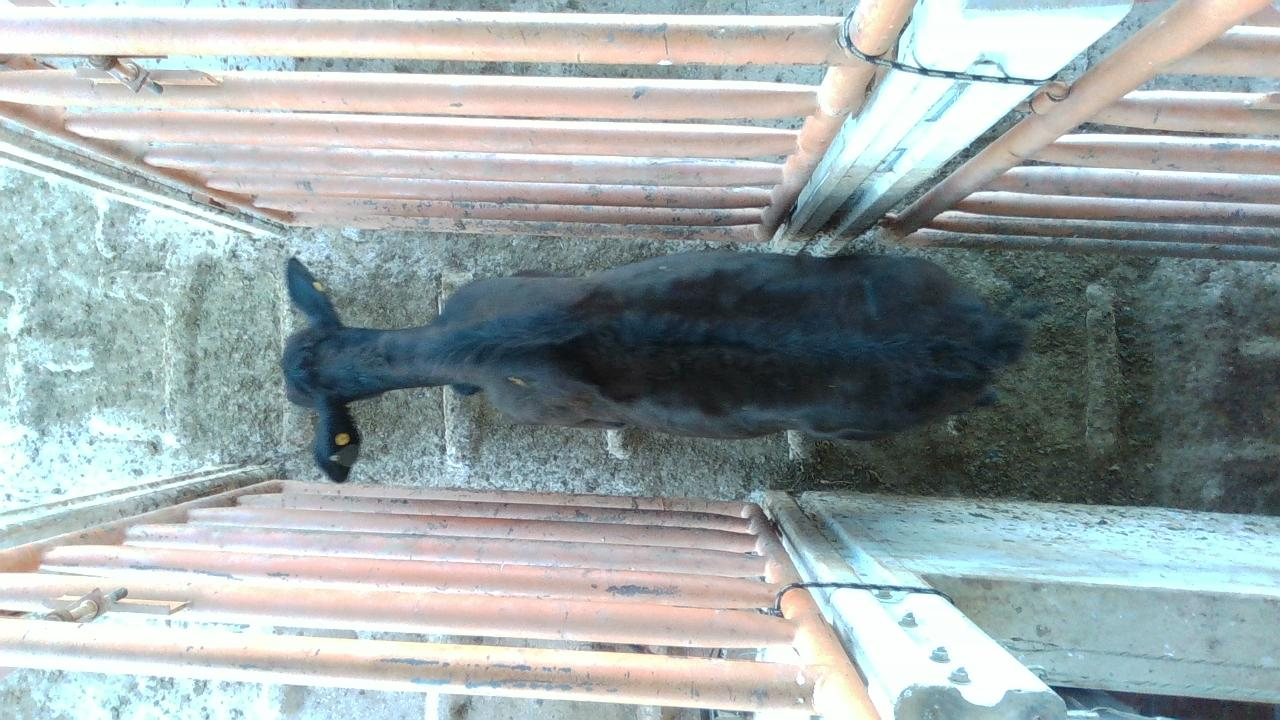cattle: (278, 247, 1036, 482)
